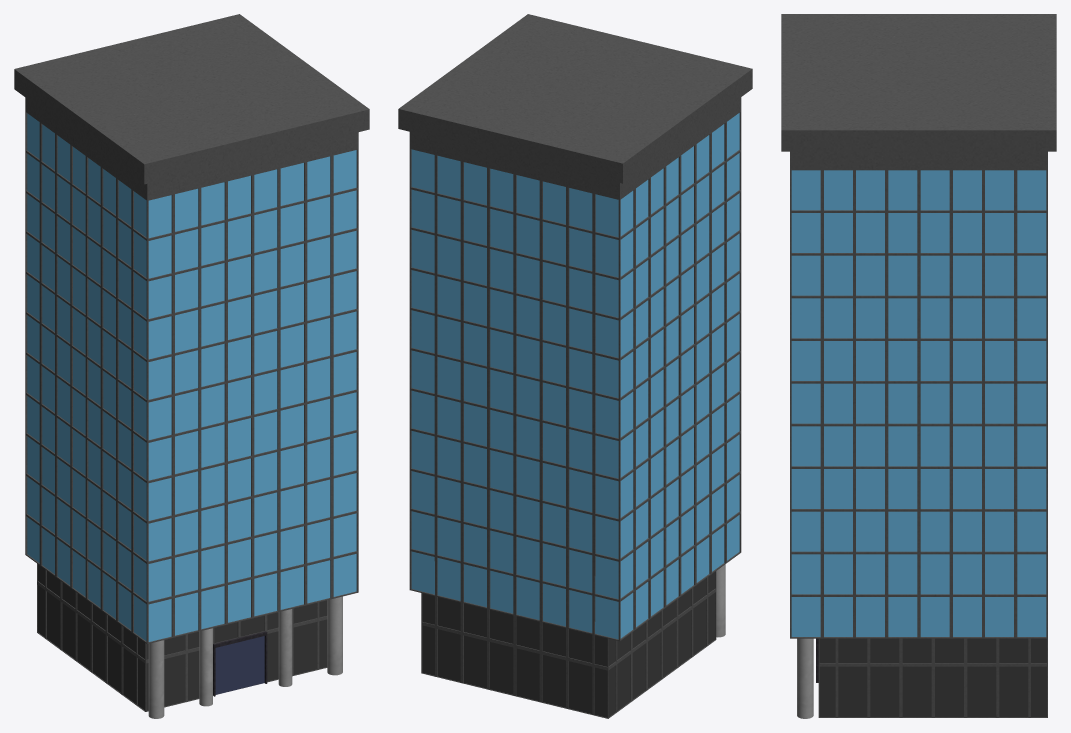
The model's file is Building_03_Texture (1).fbx.
The picture shows the model from 3 angles, left to right: view 1: azimuth 30°, elevation 25°; view 2: azimuth 150°, elevation 25°; view 3: azimuth 270°, elevation 25°; orthographic projection. The views are drawn at different scales.
Parts seen in each view (by area): view 1: Buil_03; view 2: Buil_03; view 3: Buil_03.
Part boxes in pixels (x1=…): Buil_03: x1=14, y1=14, x2=369, y2=718; Buil_03: x1=398, y1=14, x2=752, y2=718; Buil_03: x1=781, y1=14, x2=1056, y2=718.
Bounding box in the file's own units: 1728 × 4140 × 1728.
1 material, 1 textured.
